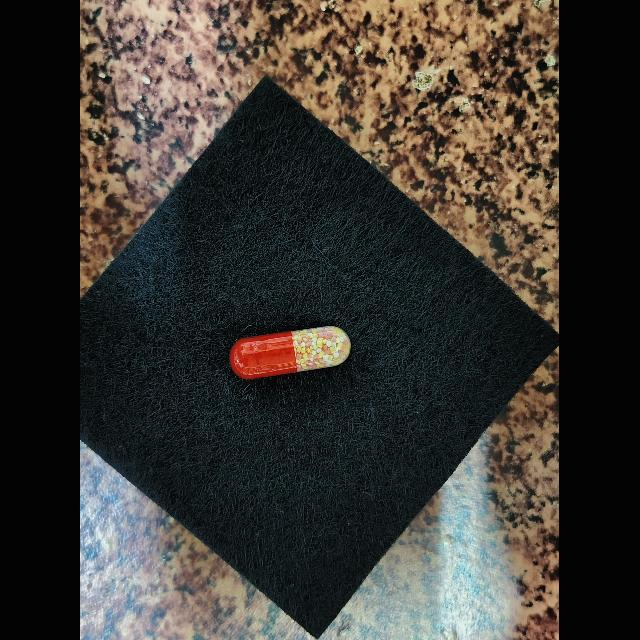Intact Capsule: (230, 326, 351, 379)
